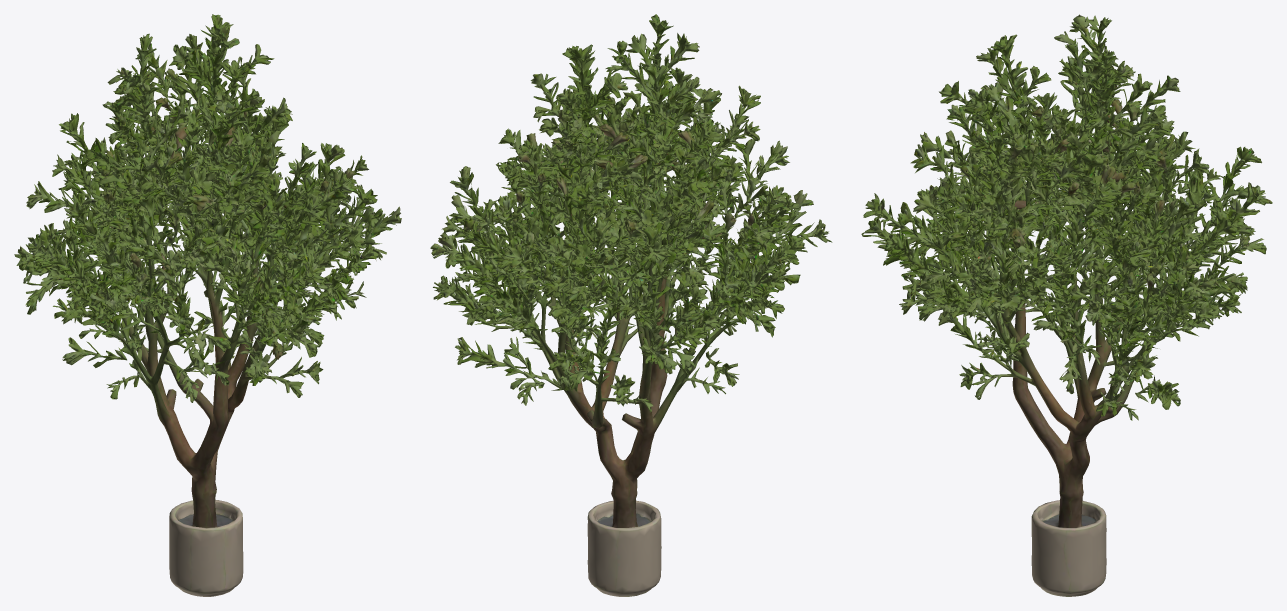
File: Miscellaneous [yZP_G1].glb
The picture shows the model from 3 angles, left to right: view 1: azimuth 30°, elevation 25°; view 2: azimuth 150°, elevation 25°; view 3: azimuth 270°, elevation 25°; orthographic projection.
Parts seen in each view (by area): view 1: geometry_0; view 2: geometry_0; view 3: geometry_0.
Part boxes in pixels (x1,y1,x2,y2): geometry_0: [14, 14, 401, 596]; geometry_0: [430, 14, 832, 596]; geometry_0: [861, 14, 1272, 596].
Bounding box in the file's own units: 0.6397 × 0.9989 × 0.6798.
Materials: 1 (1 with a texture image).
